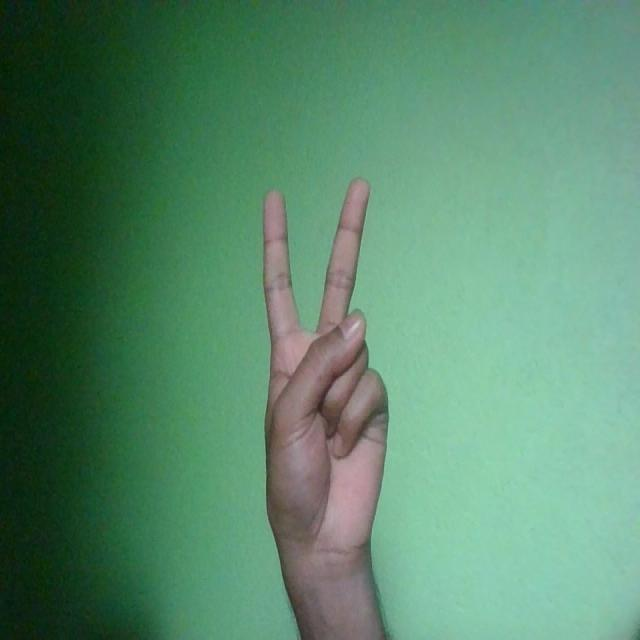Fist: (262, 176, 390, 559)
